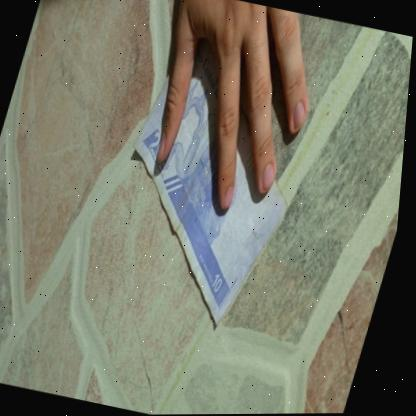vef_back: (89, 28, 333, 337)
